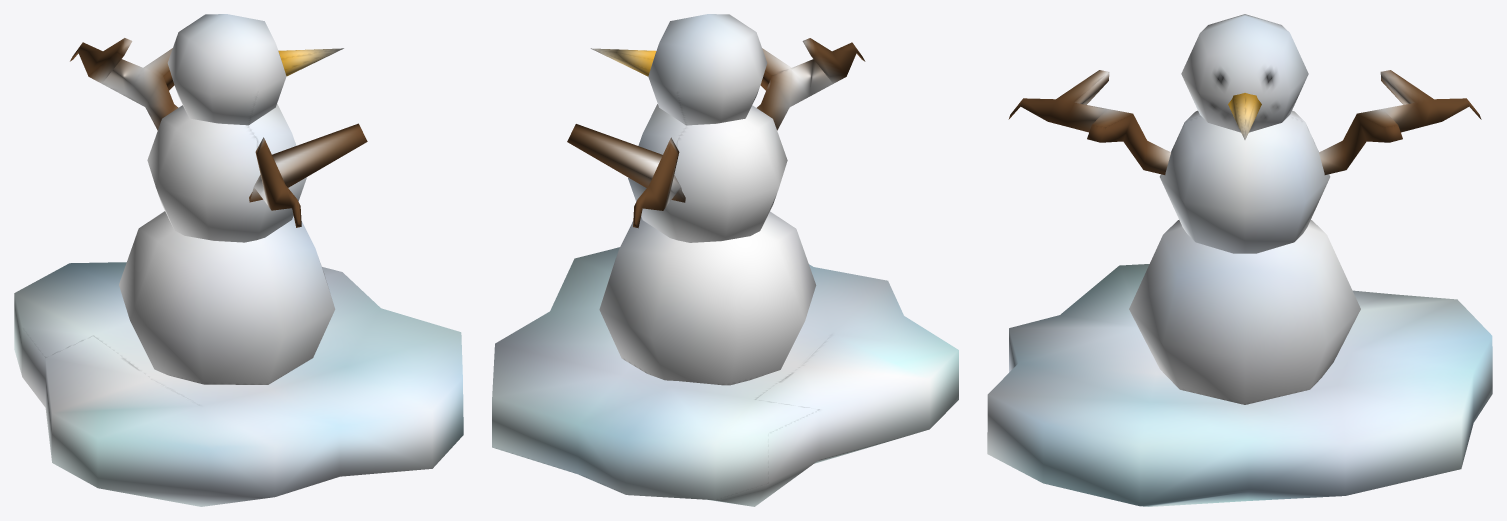
3 renders of one model, left to right at view 1: azimuth 30°, elevation 25°; view 2: azimuth 150°, elevation 25°; view 3: azimuth 270°, elevation 25°, orthographic. The views are drawn at different scales.
Parts seen in each view (by area): view 1: Geode; view 2: Geode; view 3: Geode.
Boxes of the visible parts, bbox=[...] form: Geode: bbox=[14, 14, 463, 506]; Geode: bbox=[492, 14, 958, 506]; Geode: bbox=[987, 14, 1492, 506].
Size of the model in its own units: 0.7883 by 0.8634 by 0.8711.
Materials: 1 (1 with a texture image).
